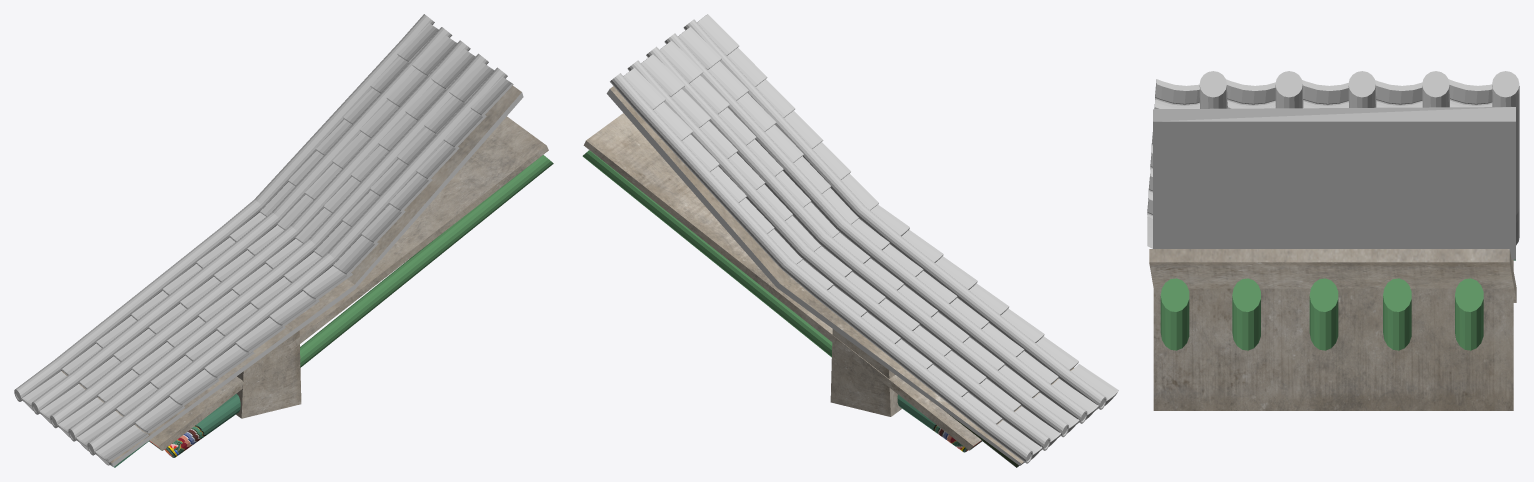
Rendered from SM_Roof_3.fbx.
The picture shows the model from 3 angles, left to right: view 1: azimuth 30°, elevation 25°; view 2: azimuth 150°, elevation 25°; view 3: azimuth 270°, elevation 25°; orthographic projection. The views are drawn at different scales.
Visible parts, largest first — view 1: SM_Roof_3; view 2: SM_Roof_3; view 3: SM_Roof_3.
Boxes of the visible parts, x1,y1,x2,y2 form: SM_Roof_3: (14, 14, 553, 467); SM_Roof_3: (582, 14, 1118, 467); SM_Roof_3: (1147, 71, 1519, 410).
Size of the model in its own units: 810 by 288 by 513.
